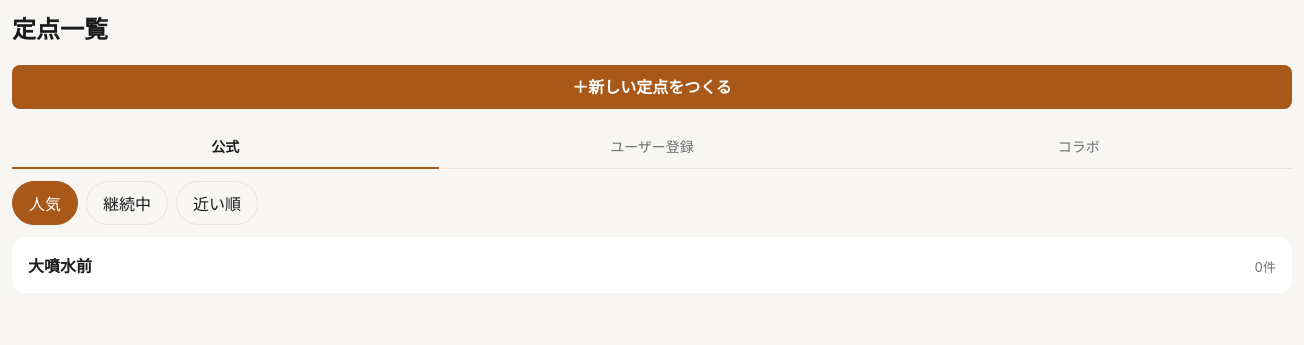
Test: SpotsListPage tabs › switches the list and the URL when a tab is clicked, and clears ?tab= for 公式
Click the tab "コラボ": (1079, 147) [865,125,1292,169]
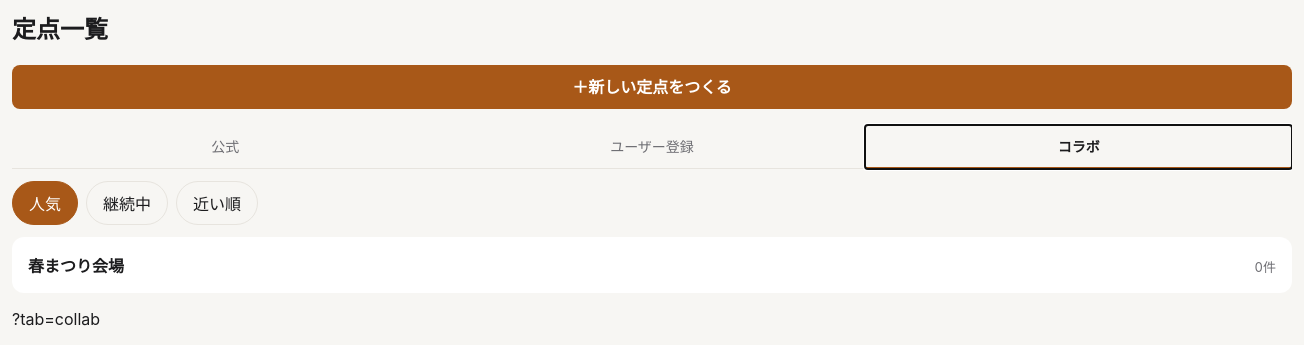
Expected: the link "春まつり会場 0件" is shown, [12,237,1292,293]
Expected: the link "大噴水前" is gone
Expected: the text with test id "location-search" reads "?tab=collab", [12,309,100,329]
Click the tab "公式": (225, 147) [12,125,439,169]
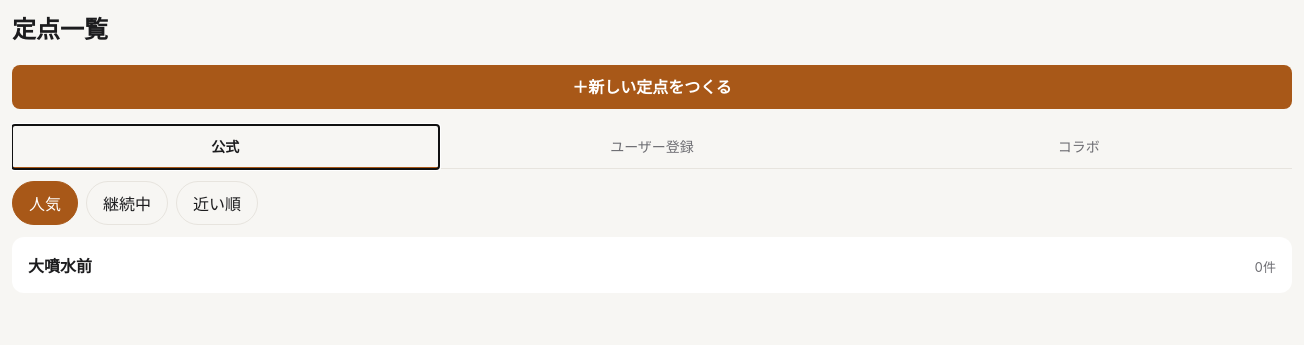
Expected: the link "大噴水前 0件" is shown, [12,237,1292,293]
